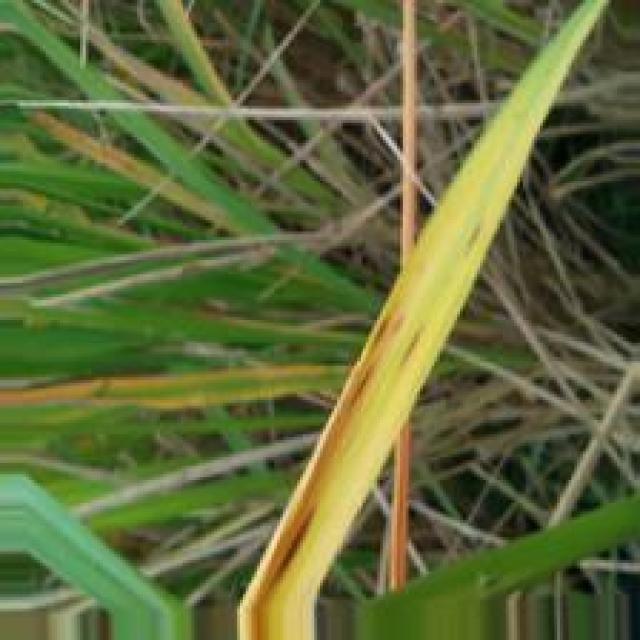Narrow_Brown_Leaf_Spot: (256, 309, 403, 634)
